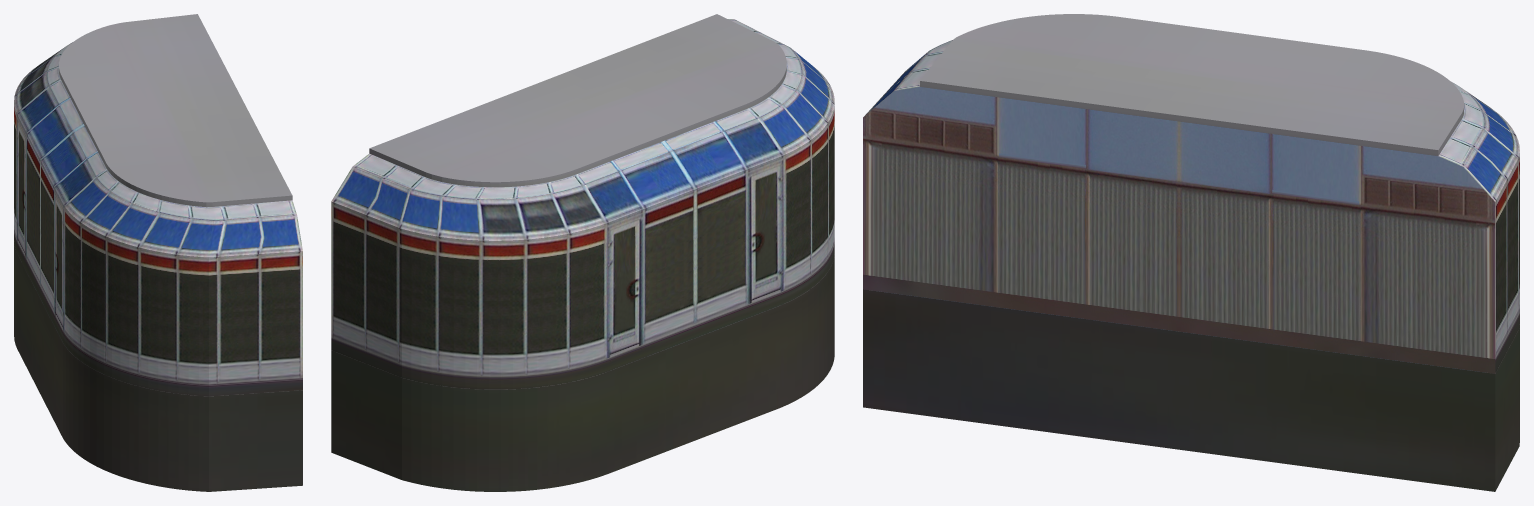
The picture shows the model from 3 angles, left to right: view 1: azimuth 30°, elevation 25°; view 2: azimuth 150°, elevation 25°; view 3: azimuth 270°, elevation 25°; orthographic projection. The views are drawn at different scales.
Visible parts, largest first — view 1: Group_001, Group_005, Group_004, Group_002, Group_003; view 2: Group_001, Group_004, Group_005, Group_002, Group_003; view 3: Group_007, Group_004, Group_005, Group_001, Group_002, Group_003.
Part boxes in pixels (box(x1,y1,x2,y2)): Group_001: box(14, 103, 302, 396); Group_005: box(59, 14, 292, 207); Group_004: box(14, 242, 302, 491); Group_002: box(14, 49, 302, 257); Group_003: box(46, 42, 296, 221); Group_001: box(331, 106, 834, 389); Group_004: box(331, 255, 834, 491); Group_005: box(369, 14, 786, 187); Group_002: box(331, 48, 834, 240); Group_003: box(353, 19, 802, 199); Group_007: box(863, 86, 1495, 373); Group_004: box(863, 289, 1519, 491); Group_005: box(920, 14, 1464, 155); Group_001: box(1495, 153, 1519, 373); Group_002: box(864, 51, 1519, 201); Group_003: box(894, 40, 1485, 166).
Size of the model in its own units: 6.07 by 5.66 by 10.08.
Materials: 7 (6 with a texture image).
